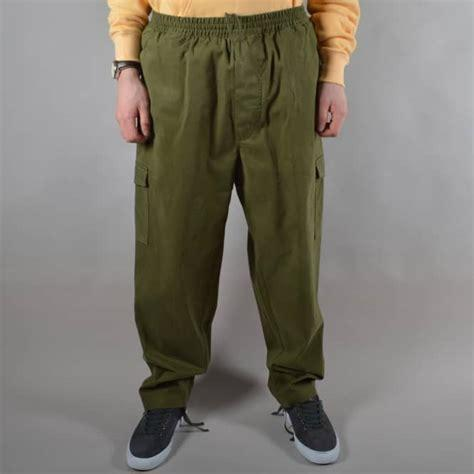pants: (135, 6, 326, 410)
